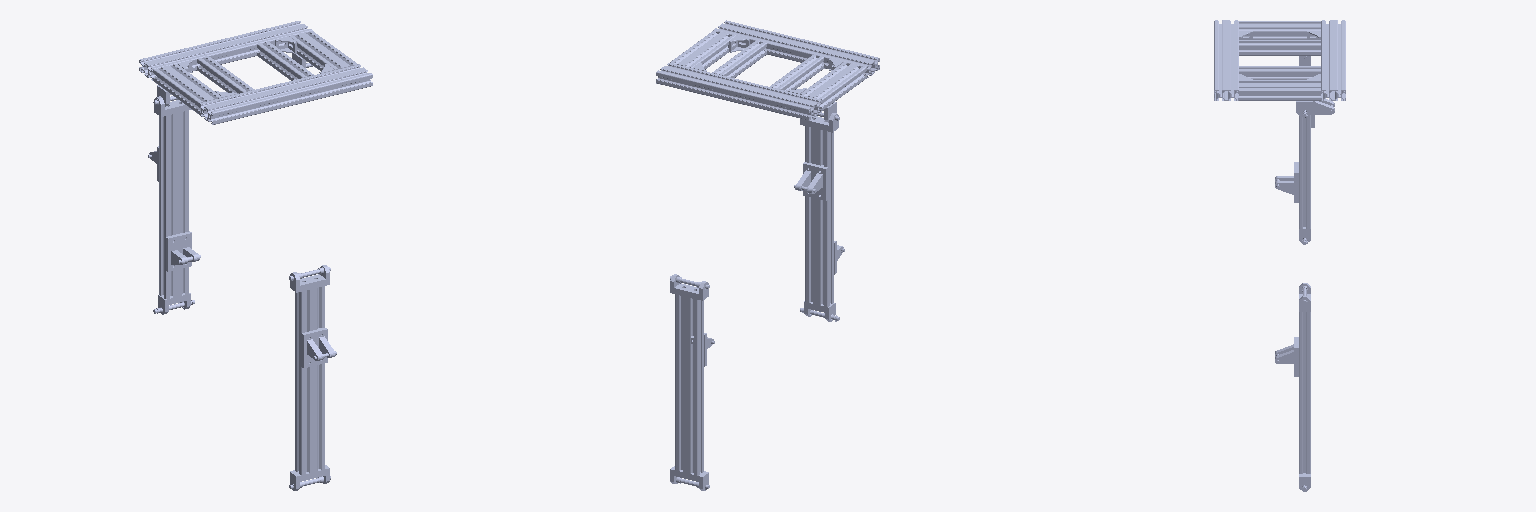
The robot description file, URDF, robot "hmr":
<?xml version="1.0" encoding="utf-8"?>
<!-- This URDF was automatically created by SolidWorks to URDF Exporter! Originally created by [author] ([email redacted]) 
     Commit Version: 1.5.1-0-g916b5db  Build Version: 1.5.7152.31018
     For more information, please see http://wiki.ros.org/sw_urdf_exporter -->
<robot
  name="hmr">
  <link
    name="base_link">
    <inertial>
      <origin
        xyz="-0.000103296813793522 -0.0184749995894324 -0.00709986514009202"
        rpy="0 0 0" />
      <mass
        value="0.933836944447792" />
      <inertia
        ixx="0.00139201398308306"
        ixy="-2.82901658884336E-12"
        ixz="4.14929438991966E-12"
        iyy="0.00736197315629375"
        iyz="-8.0885885721078E-10"
        izz="0.00614175111526735" />
    </inertial>
    <visual>
      <origin
        xyz="0 0 0"
        rpy="0 0 0" />
      <geometry>
        <mesh
          filename="package://hmr/meshes/base_link.STL" />
      </geometry>
      <material
        name="">
        <color
          rgba="0.792156862745098 0.819607843137255 0.933333333333333 1" />
      </material>
    </visual>
    <collision>
      <origin
        xyz="0 0 0"
        rpy="0 0 0" />
      <geometry>
        <mesh
          filename="package://hmr/meshes/base_link.STL" />
      </geometry>
    </collision>
  </link>
  <link
    name="llink1">
    <inertial>
      <origin
        xyz="0.0499999851262689 -0.248500614775013 5.33671345059814E-05"
        rpy="0 0 0" />
      <mass
        value="0.509664464543895" />
      <inertia
        ixx="0.00405279295169879"
        ixy="-5.17821013423379E-16"
        ixz="-1.86028405386162E-17"
        iyy="0.000257140430774596"
        iyz="2.20410095949559E-06"
        izz="0.0041884713527824" />
    </inertial>
    <visual>
      <origin
        xyz="0 0 0"
        rpy="0 0 0" />
      <geometry>
        <mesh
          filename="package://hmr/meshes/llink1.STL" />
      </geometry>
      <material
        name="">
        <color
          rgba="0.792156862745098 0.819607843137255 0.933333333333333 1" />
      </material>
    </visual>
    <collision>
      <origin
        xyz="0 0 0"
        rpy="0 0 0" />
      <geometry>
        <mesh
          filename="package://hmr/meshes/llink1.STL" />
      </geometry>
    </collision>
  </link>
  <joint
    name="ljoint1"
    type="continuous">
    <origin
      xyz="0.120000000000052 0.0599999999998939 -0.0599999999999843"
      rpy="1.5707963267949 0 0" />
    <parent
      link="base_link" />
    <child
      link="llink1" />
    <axis
      xyz="1 0 0" />
  </joint>
  <link
    name="llink2">
    <inertial>
      <origin
        xyz="0.0500545282509017 -0.234393633663144 0.00550026352716933"
        rpy="0 0 0" />
      <mass
        value="0.442265777754145" />
      <inertia
        ixx="0.0040117979862963"
        ixy="-5.09697896497051E-16"
        ixz="-2.77164071387431E-17"
        iyy="0.000241596436981563"
        iyz="-1.10278899850188E-06"
        izz="0.00416183117175302" />
    </inertial>
    <visual>
      <origin
        xyz="0 0 0"
        rpy="0 0 0" />
      <geometry>
        <mesh
          filename="package://hmr/meshes/llink2.STL" />
      </geometry>
      <material
        name="">
        <color
          rgba="0.792156862745098 0.819607843137255 0.933333333333333 1" />
      </material>
    </visual>
    <collision>
      <origin
        xyz="0 0 0"
        rpy="0 0 0" />
      <geometry>
        <mesh
          filename="package://hmr/meshes/llink2.STL" />
      </geometry>
    </collision>
  </link>
  <joint
    name="ljoint2"
    type="continuous">
    <origin
      xyz="0 -0.499999999999959 0"
      rpy="0 0 0" />
    <parent
      link="llink1" />
    <child
      link="llink2" />
    <axis
      xyz="1 0 0" />
  </joint>
  <link
    name="llink3">
    <inertial>
      <origin
        xyz="0.0501466994062446 -0.0351041894822217 0.0405185729509365"
        rpy="0 0 0" />
      <mass
        value="0.164387087553345" />
      <inertia
        ixx="0.000390399624612182"
        ixy="6.46553823154572E-18"
        ixz="7.16521493881578E-17"
        iyy="0.000442516689346383"
        iyz="-8.18654011913839E-11"
        izz="8.27552994226968E-05" />
    </inertial>
    <visual>
      <origin
        xyz="0 0 0"
        rpy="0 0 0" />
      <geometry>
        <mesh
          filename="package://hmr/meshes/llink3.STL" />
      </geometry>
      <material
        name="">
        <color
          rgba="0.792156862745098 0.819607843137255 0.933333333333333 1" />
      </material>
    </visual>
    <collision>
      <origin
        xyz="0 0 0"
        rpy="0 0 0" />
      <geometry>
        <mesh
          filename="package://hmr/meshes/llink3.STL" />
      </geometry>
    </collision>
  </link>
  <joint
    name="ljoint3"
    type="continuous">
    <origin
      xyz="0 -0.500000000000046 0"
      rpy="0 0 0" />
    <parent
      link="llink2" />
    <child
      link="llink3" />
    <axis
      xyz="1 0 0" />
  </joint>
  <link
    name="rlink1">
    <inertial>
      <origin
        xyz="-0.0500000148736693 -0.248500614774999 5.33671345059189E-05"
        rpy="0 0 0" />
      <mass
        value="0.509664464543895" />
      <inertia
        ixx="0.00405279295169879"
        ixy="-5.17781100332924E-16"
        ixz="-1.86069004433025E-17"
        iyy="0.000257140430774596"
        iyz="2.20410095949557E-06"
        izz="0.0041884713527824" />
    </inertial>
    <visual>
      <origin
        xyz="0 0 0"
        rpy="0 0 0" />
      <geometry>
        <mesh
          filename="package://hmr/meshes/rlink1.STL" />
      </geometry>
      <material
        name="">
        <color
          rgba="0.792156862745098 0.819607843137255 0.933333333333333 1" />
      </material>
    </visual>
    <collision>
      <origin
        xyz="0 0 0"
        rpy="0 0 0" />
      <geometry>
        <mesh
          filename="package://hmr/meshes/rlink1.STL" />
      </geometry>
    </collision>
  </link>
  <joint
    name="rjoint1"
    type="continuous">
    <origin
      xyz="-0.120000000000021 0.0599999999999112 -0.0599999999999698"
      rpy="1.5707963267949 0 0" />
    <parent
      link="base_link" />
    <child
      link="rlink1" />
    <axis
      xyz="1 0 0" />
  </joint>
  <link
    name="rlink2">
    <inertial>
      <origin
        xyz="-0.049945471749016 -0.234393633663131 0.00550026352714499"
        rpy="0 0 0" />
      <mass
        value="0.442265777754145" />
      <inertia
        ixx="0.00401179798629629"
        ixy="-5.09803878440693E-16"
        ixz="-2.77168469663556E-17"
        iyy="0.000241596436981563"
        iyz="-1.10278899850179E-06"
        izz="0.00416183117175302" />
    </inertial>
    <visual>
      <origin
        xyz="0 0 0"
        rpy="0 0 0" />
      <geometry>
        <mesh
          filename="package://hmr/meshes/rlink2.STL" />
      </geometry>
      <material
        name="">
        <color
          rgba="0.792156862745098 0.819607843137255 0.933333333333333 1" />
      </material>
    </visual>
    <collision>
      <origin
        xyz="0 0 0"
        rpy="0 0 0" />
      <geometry>
        <mesh
          filename="package://hmr/meshes/rlink2.STL" />
      </geometry>
    </collision>
  </link>
  <joint
    name="rjoint2"
    type="continuous">
    <origin
      xyz="0 -0.499999999999959 0"
      rpy="0 0 0" />
    <parent
      link="rlink1" />
    <child
      link="rlink2" />
    <axis
      xyz="1 0 0" />
  </joint>
  <link
    name="rlink3">
    <inertial>
      <origin
        xyz="-0.0498532993324217 -0.0351041894822506 0.040518572950845"
        rpy="0 0 0" />
      <mass
        value="0.164387087553345" />
      <inertia
        ixx="0.000390399624612182"
        ixy="6.46331811347987E-18"
        ixz="7.16490435411506E-17"
        iyy="0.000442516689346383"
        iyz="-8.18654011935542E-11"
        izz="8.27552994226968E-05" />
    </inertial>
    <visual>
      <origin
        xyz="0 0 0"
        rpy="0 0 0" />
      <geometry>
        <mesh
          filename="package://hmr/meshes/rlink3.STL" />
      </geometry>
      <material
        name="">
        <color
          rgba="0.792156862745098 0.819607843137255 0.933333333333333 1" />
      </material>
    </visual>
    <collision>
      <origin
        xyz="0 0 0"
        rpy="0 0 0" />
      <geometry>
        <mesh
          filename="package://hmr/meshes/rlink3.STL" />
      </geometry>
    </collision>
  </link>
  <joint
    name="rjoint3"
    type="continuous">
    <origin
      xyz="0 -0.500000000000032 0"
      rpy="0 0 0" />
    <parent
      link="rlink2" />
    <child
      link="rlink3" />
    <axis
      xyz="1 0 0" />
  </joint>
</robot>

--- What the picture shows (computed from the rendered views, not written in the file) ---
The picture shows the robot from 3 angles, left to right: view 1: azimuth 30°, elevation 25°; view 2: azimuth 150°, elevation 25°; view 3: azimuth 270°, elevation 25°; orthographic projection.
Model hmr with 7 links and 6 joints (6 continuous), rooted at base_link, posed all joints at 0.
Links seen in each view (by area): view 1: base_link, llink2, rlink1; view 2: base_link, llink2, rlink1; view 3: base_link, llink2, rlink1.
Boxes of the visible links, x1,y1,x2,y2 form: base_link: [139, 21, 372, 124]; llink2: [289, 265, 336, 490]; rlink1: [148, 96, 200, 314]; base_link: [656, 20, 879, 122]; llink2: [670, 274, 714, 490]; rlink1: [794, 112, 844, 321]; base_link: [1214, 20, 1345, 117]; llink2: [1275, 283, 1310, 491]; rlink1: [1275, 56, 1334, 244].
Size in the robot's own frame: 0.44 by 0.32 by 1.07 metres.
Meshes: 7 distinct files referenced, 3 mesh visuals loaded (3 binary STL); not drawn: 4 (reference not matched to a file when rendering).